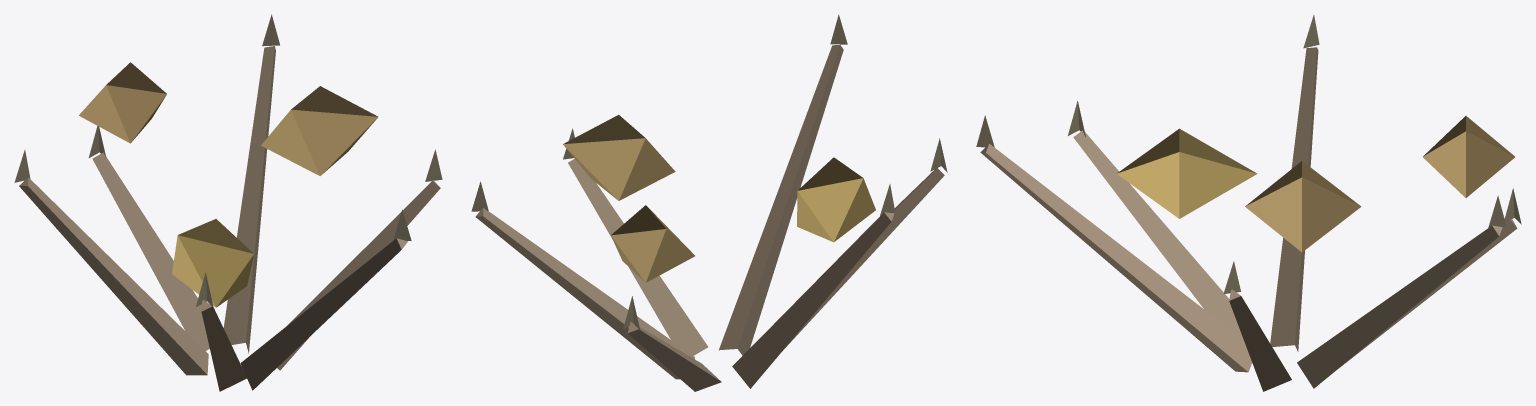
Rendered from shrub.trop.dry_scrub__autumn.glb.
The picture shows the model from 3 angles, left to right: view 1: azimuth 30°, elevation 25°; view 2: azimuth 150°, elevation 25°; view 3: azimuth 270°, elevation 25°; orthographic projection. The views are drawn at different scales.
Parts seen in each view (by area): view 1: shrub.trop.dry_scrub__autumn; view 2: shrub.trop.dry_scrub__autumn; view 3: shrub.trop.dry_scrub__autumn.
Boxes of the visible parts, x1,y1,x2,y2 form: shrub.trop.dry_scrub__autumn: (14, 14, 442, 391); shrub.trop.dry_scrub__autumn: (471, 14, 947, 391); shrub.trop.dry_scrub__autumn: (976, 15, 1521, 391).
Bounding box in the file's own units: 1.81 × 1.19 × 2.17.
